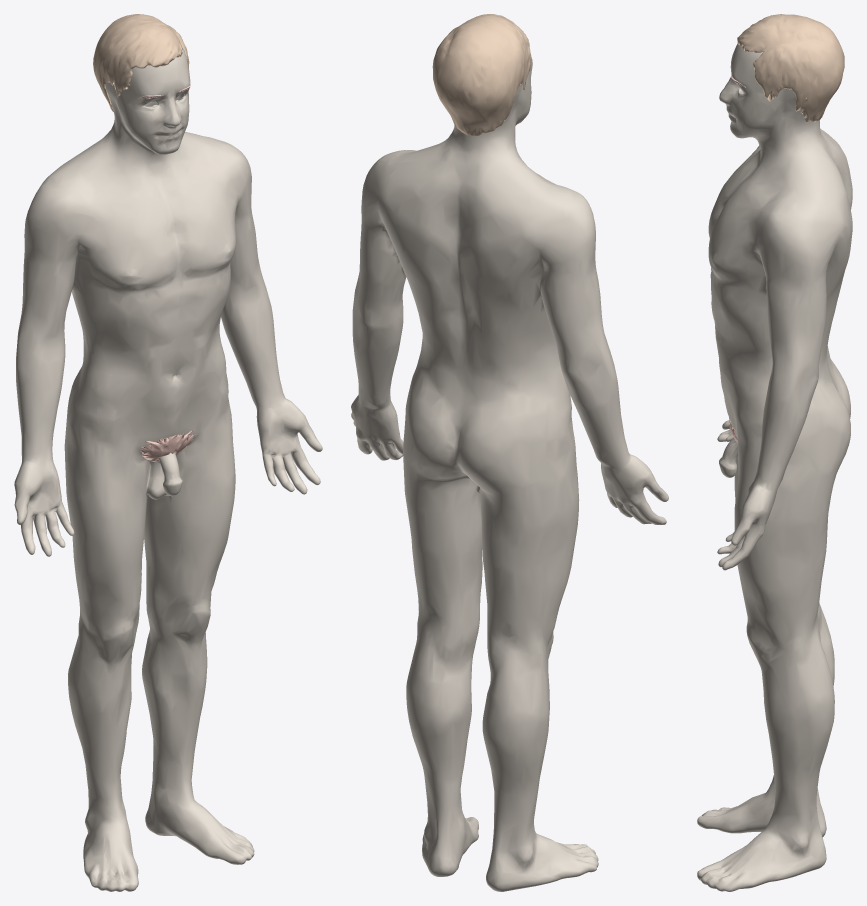
The model's file is body-skin.lod2.glb.
3 renders of one model, left to right at view 1: azimuth 30°, elevation 25°; view 2: azimuth 150°, elevation 25°; view 3: azimuth 270°, elevation 25°, orthographic. The views are drawn at different scales.
Visible parts, largest first — view 1: skin, hair-of-head, pubic-hair; view 2: skin, hair-of-head; view 3: skin, hair-of-head.
Boxes of the visible parts, left/top/right/bottom form: skin: left=14, top=47, right=322, bottom=891; hair-of-head: left=93, top=14, right=189, bottom=111; pubic-hair: left=140, top=429, right=195, bottom=461; skin: left=351, top=54, right=668, bottom=891; hair-of-head: left=432, top=14, right=530, bottom=135; skin: left=697, top=44, right=852, bottom=891; hair-of-head: left=737, top=14, right=844, bottom=122.
Bounding box in the file's own units: 0.6665 × 1.73 × 0.292.
